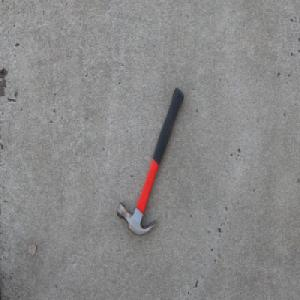Hammer: (115, 86, 184, 236)
